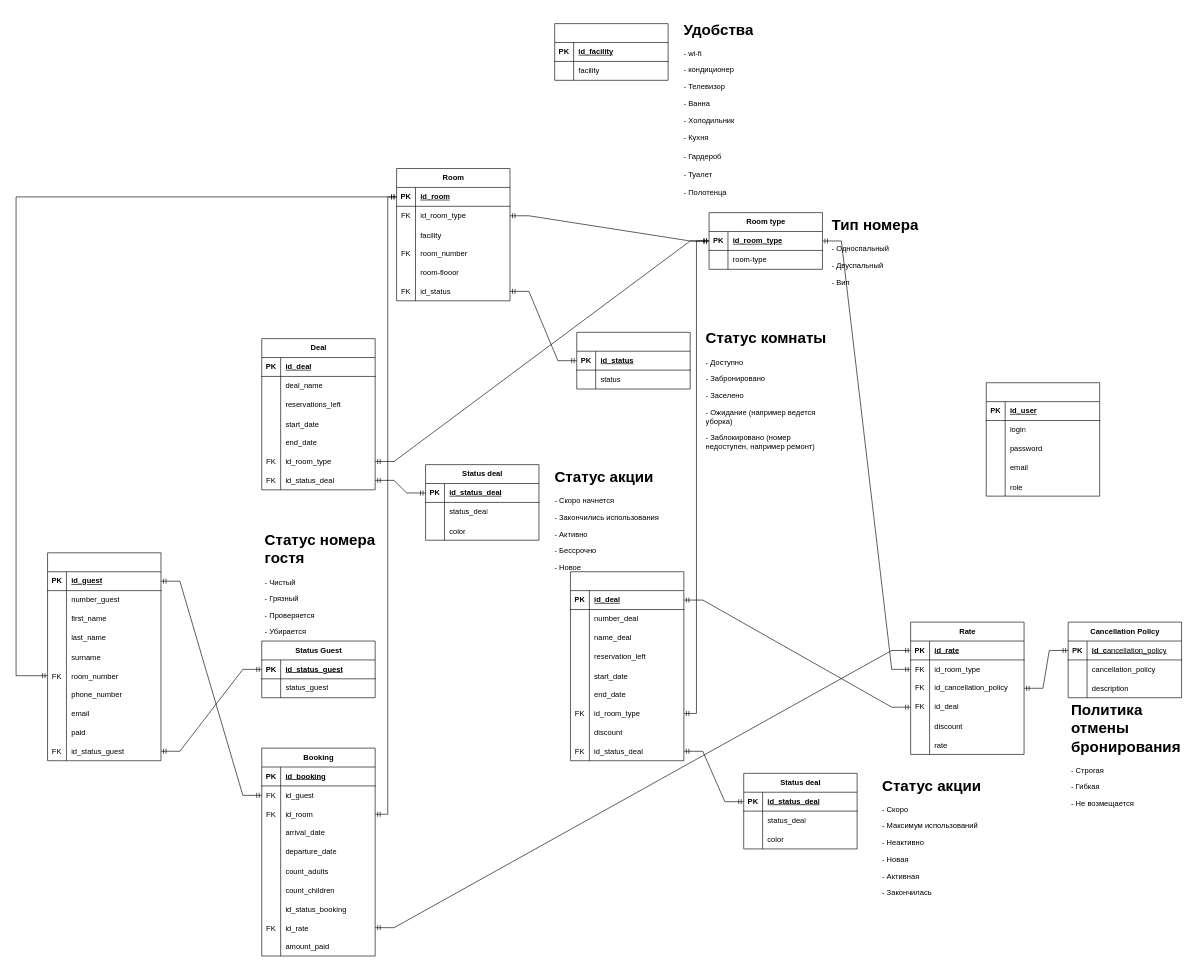
Some shapes in this 1199 by 967 pixel diagram are drawn without their labels. The box of each missing label's shape, as (x1, y1, x2, y2) in pixels:
Deals: (570, 571, 684, 761)
Guests: (47, 552, 161, 761)
Room facility: (554, 23, 668, 80)
Status room: (576, 332, 690, 389)
Users: (986, 382, 1100, 496)
